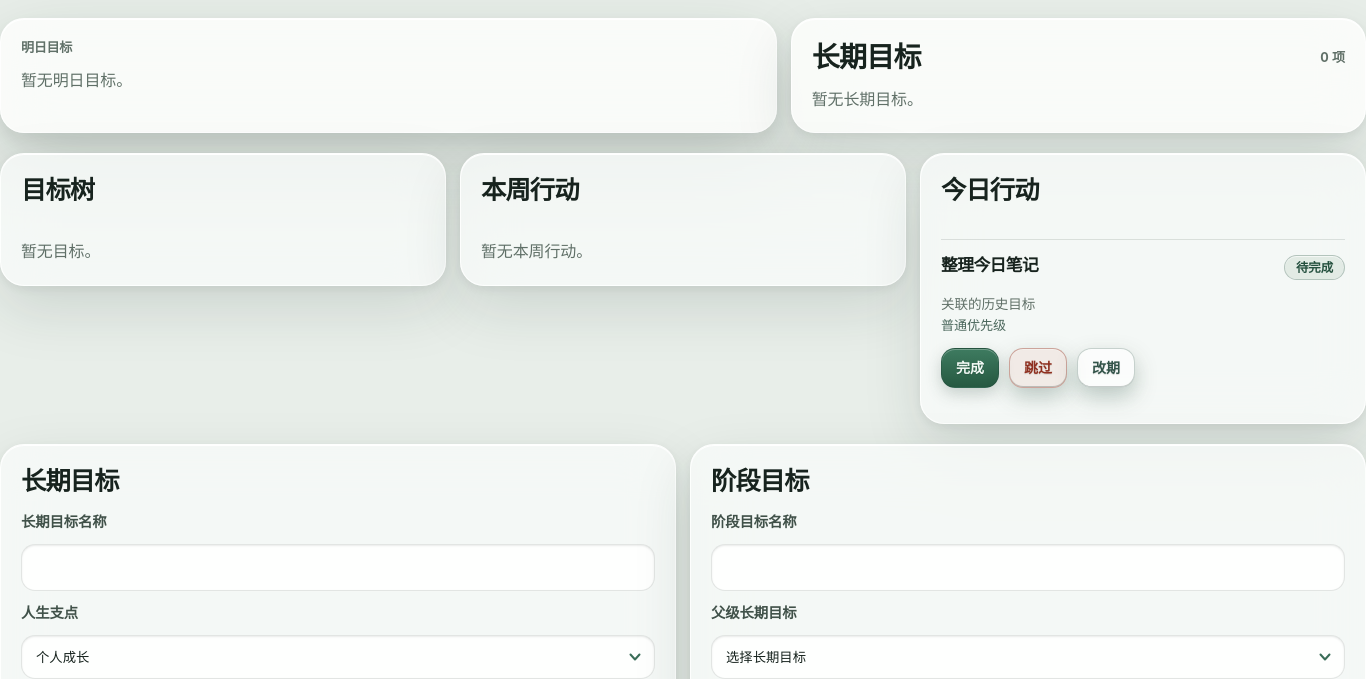
Test case: PlanningWorkspace › completes a today action exactly once
The image size is (1366, 679).
Click the button with aria-label "完成：整理今日笔记" at (970, 368), box [941,348,999,388]
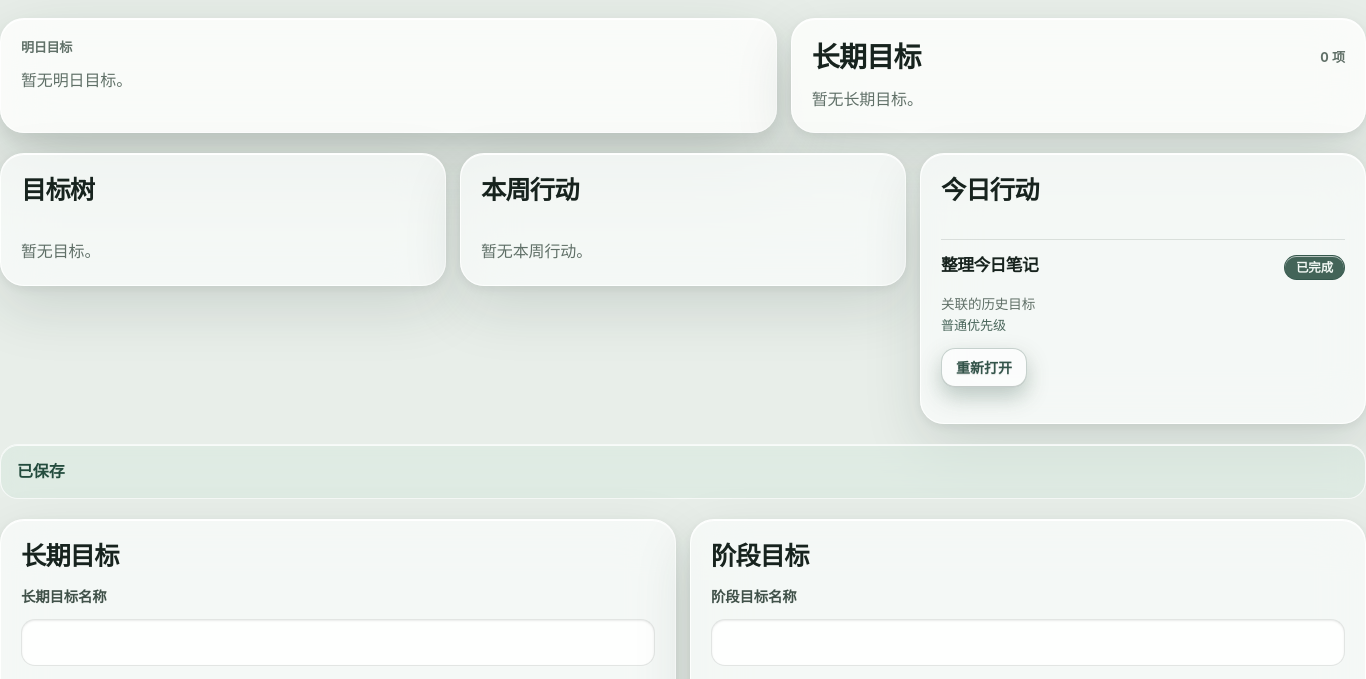
Check: the text "已完成" is shown, box [1284,255,1345,280]
